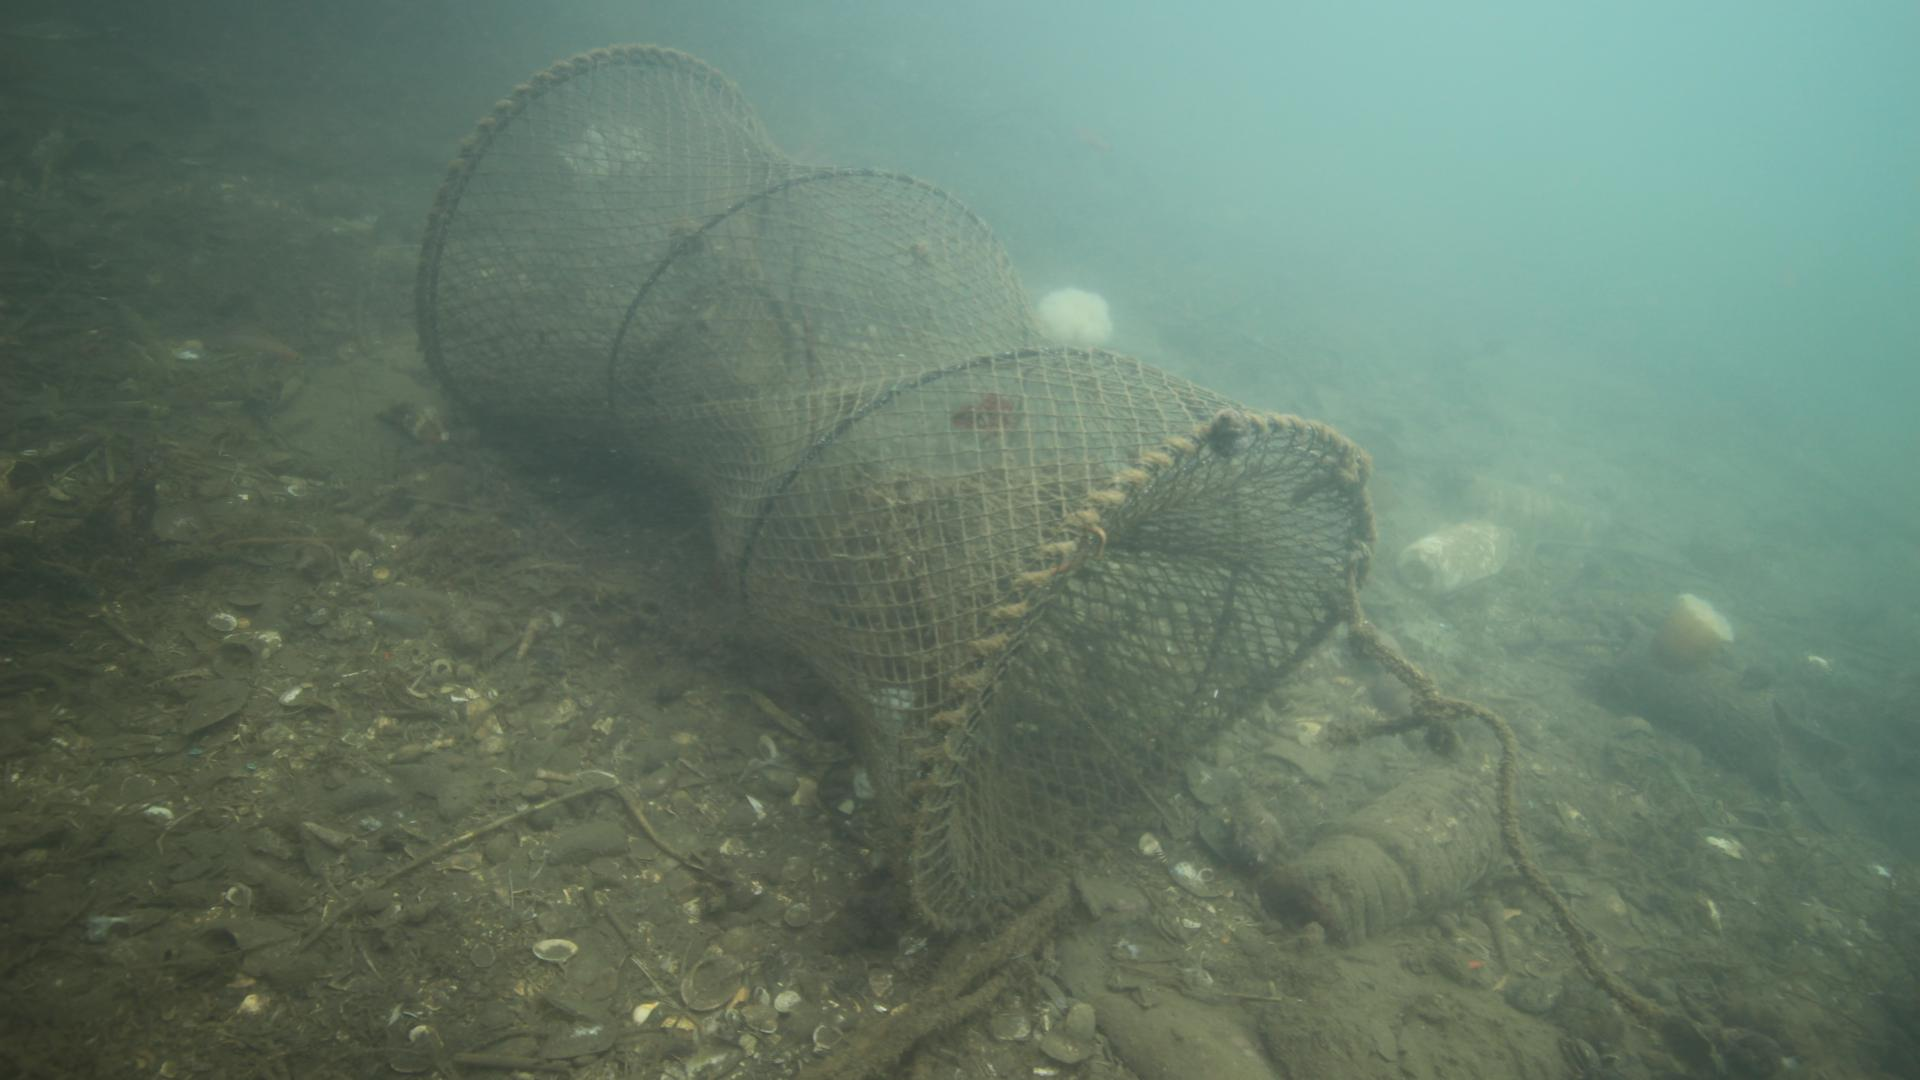bundle of ropes: (803, 881, 1068, 1080)
rope: (1346, 560, 1725, 1073)
spring fish trap: (417, 41, 1371, 934)
